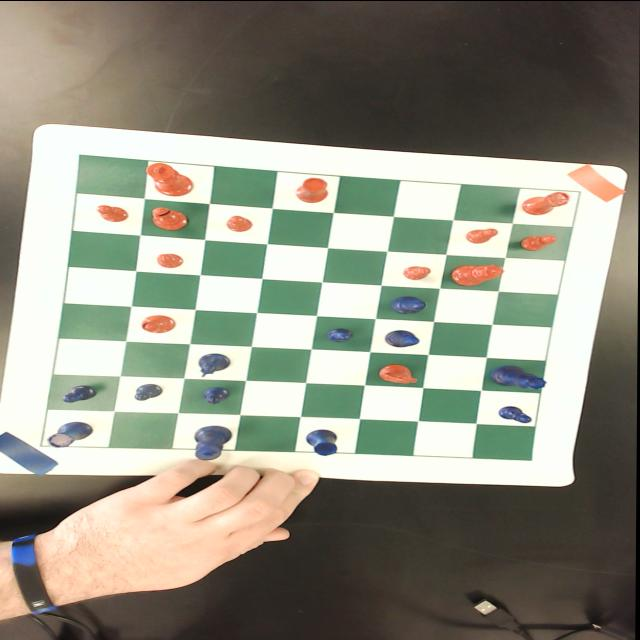B: (383, 328, 422, 346), (389, 296, 427, 314)
K: (192, 424, 234, 458)
N: (195, 352, 231, 377)
P: (62, 384, 97, 402), (499, 405, 533, 423), (134, 382, 164, 400), (201, 387, 231, 402), (328, 326, 354, 342)
Q: (491, 364, 548, 388)
R: (46, 421, 95, 448), (306, 428, 340, 456)
b: (150, 206, 189, 230), (142, 314, 177, 333)
cb: (42, 154, 581, 459)
k: (145, 162, 196, 196)
n: (379, 363, 419, 383)
p: (95, 204, 130, 222), (521, 234, 559, 250), (466, 228, 500, 244), (155, 252, 186, 268), (226, 214, 254, 231), (403, 265, 433, 280)
q: (451, 263, 505, 285)
r: (522, 190, 572, 214), (296, 176, 332, 202)
